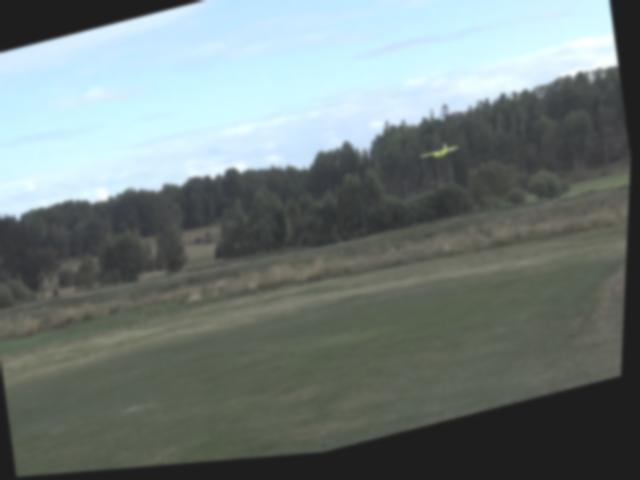plane: (420, 145, 461, 173)
